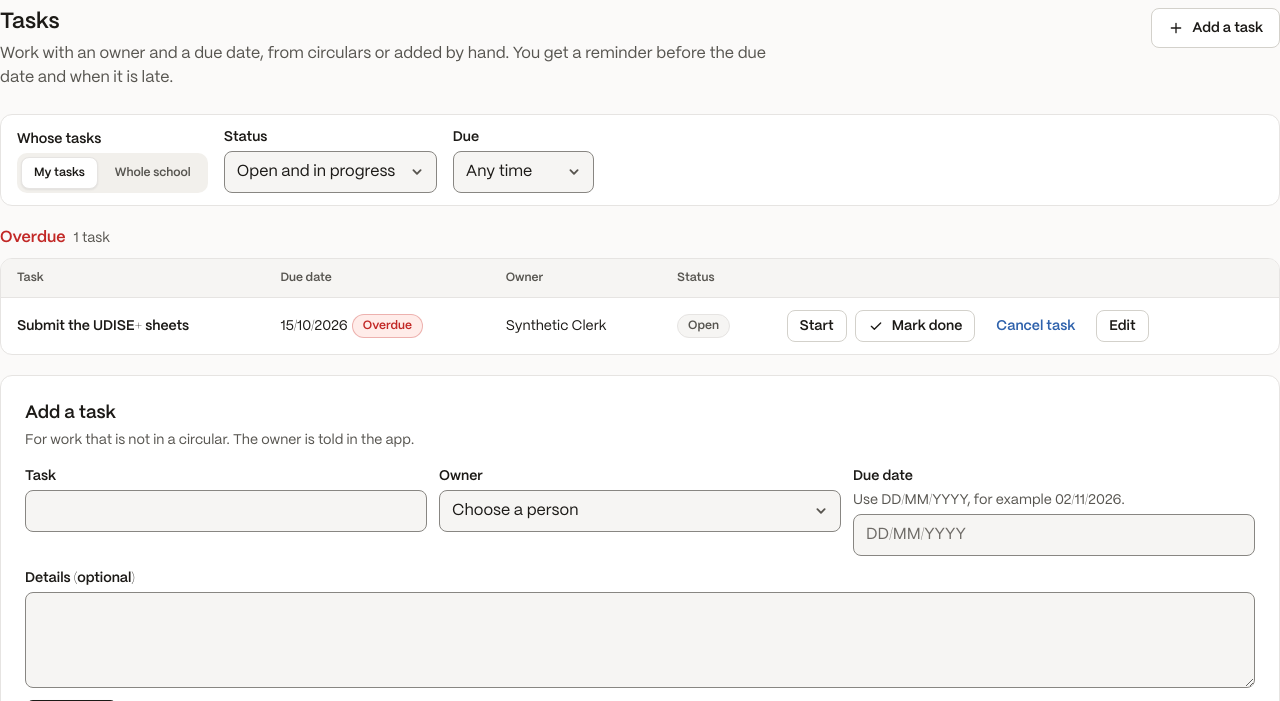
Test: edit a task (US-1603, FR-TASK-003) › refuses a date that is not real, and an empty title, before sending
Click the button "Edit" at (1122, 326), box [1096,310,1148,342]
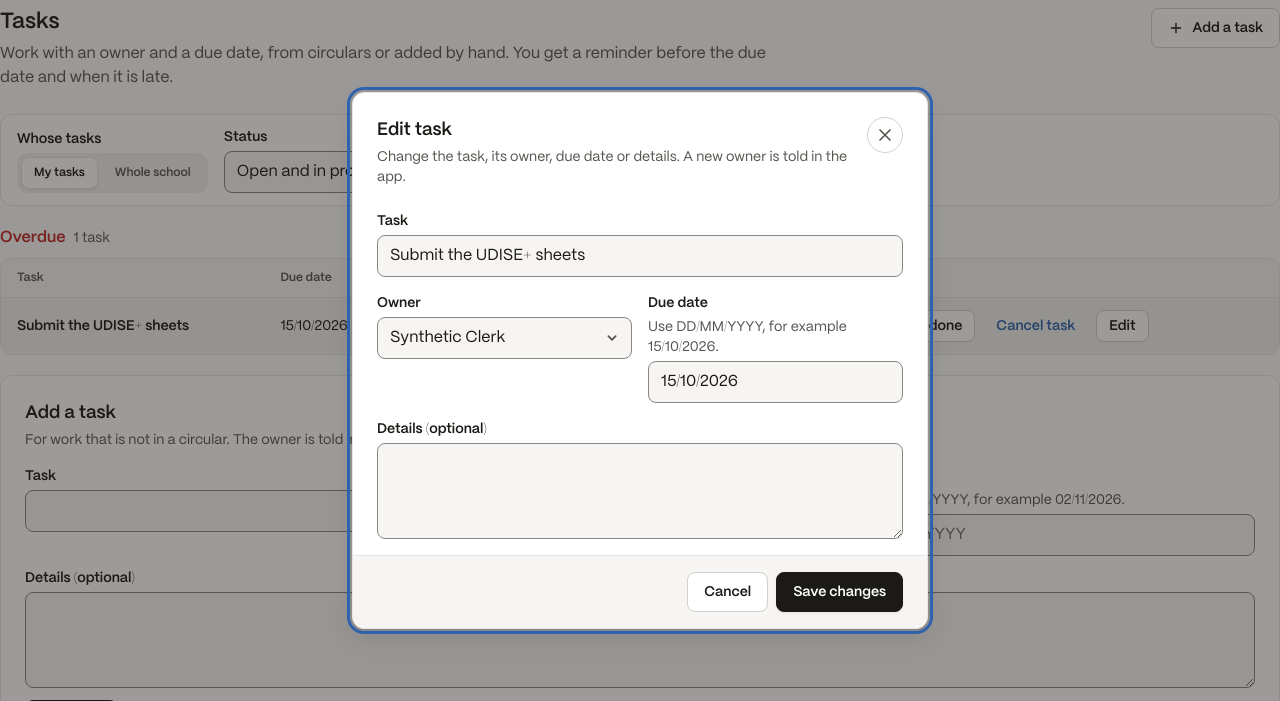
Clear the field labelled "Task" at (640, 256), box [377,234,903,276]
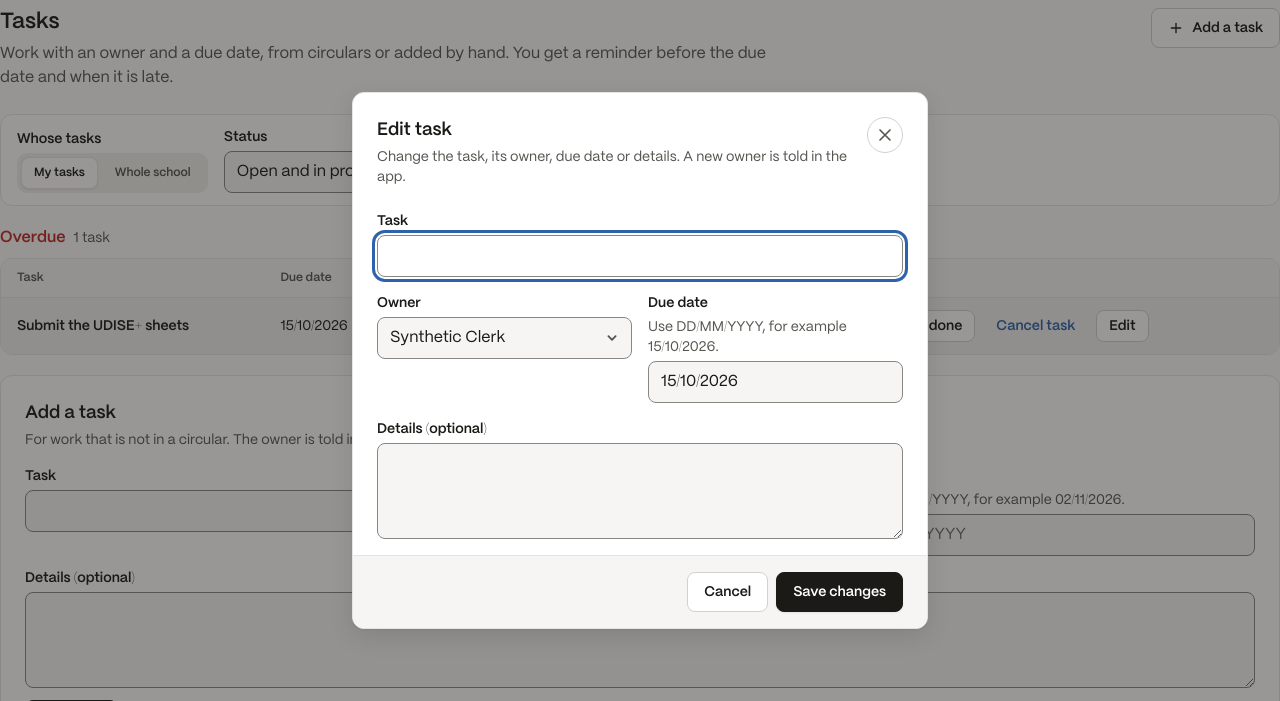
Replace the text in the field labelled "Due date" with "31/02/2026" at (776, 382), box [648,360,903,402]
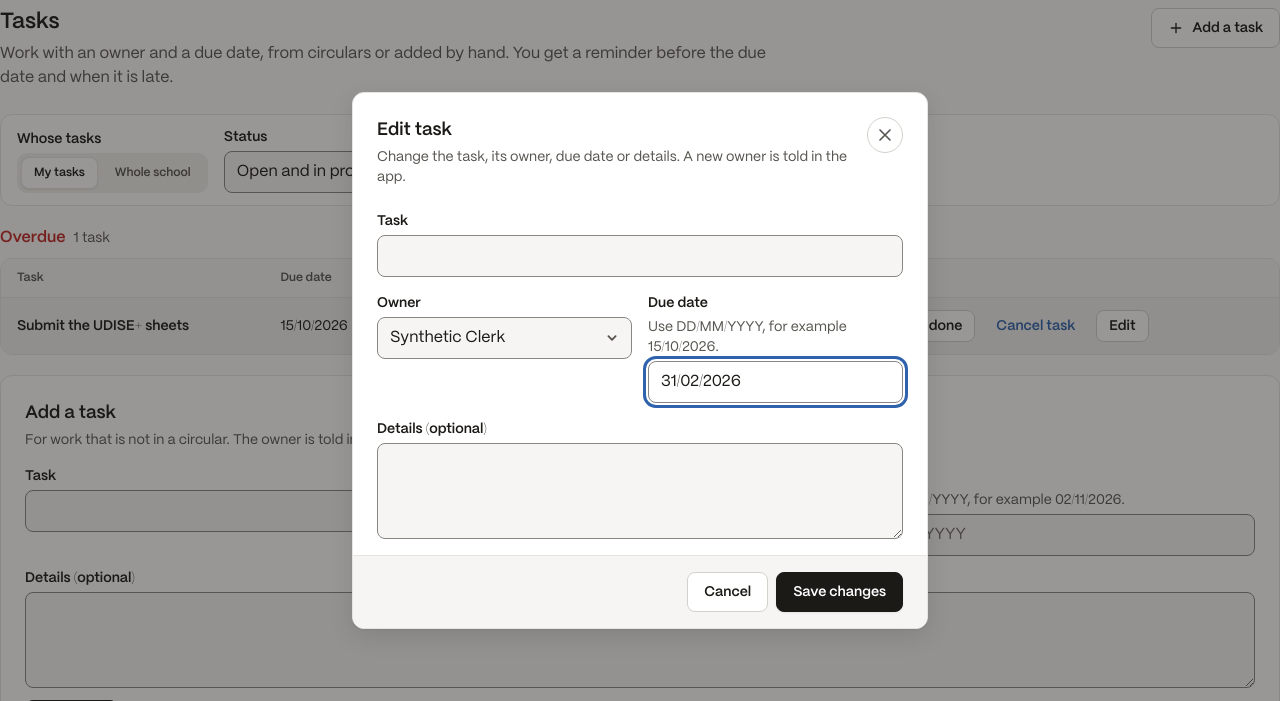
Click the button "Save changes" at (840, 592), box [776,572,903,612]
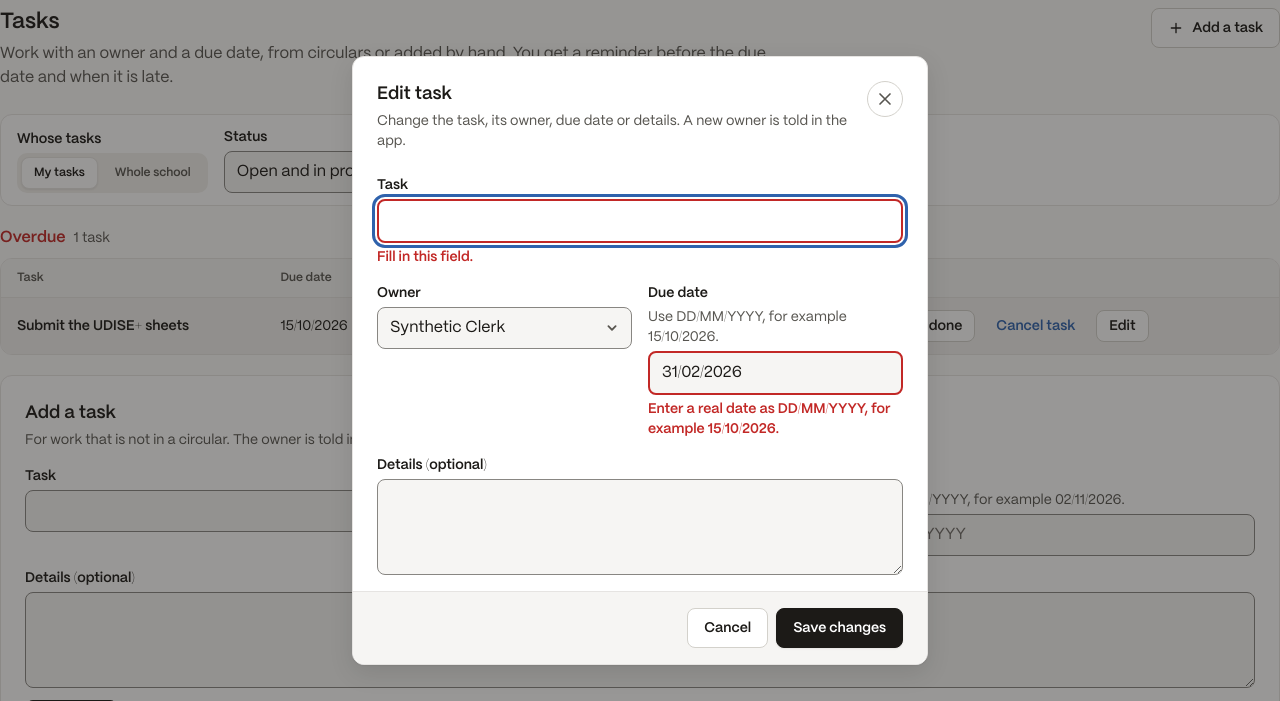
Check: the text "Enter a real date as DD/MM/YYYY, for example 15/10/2026." is shown, box [648,398,903,438]
Check: the text "Fill in this field." is shown, box [377,250,473,264]
